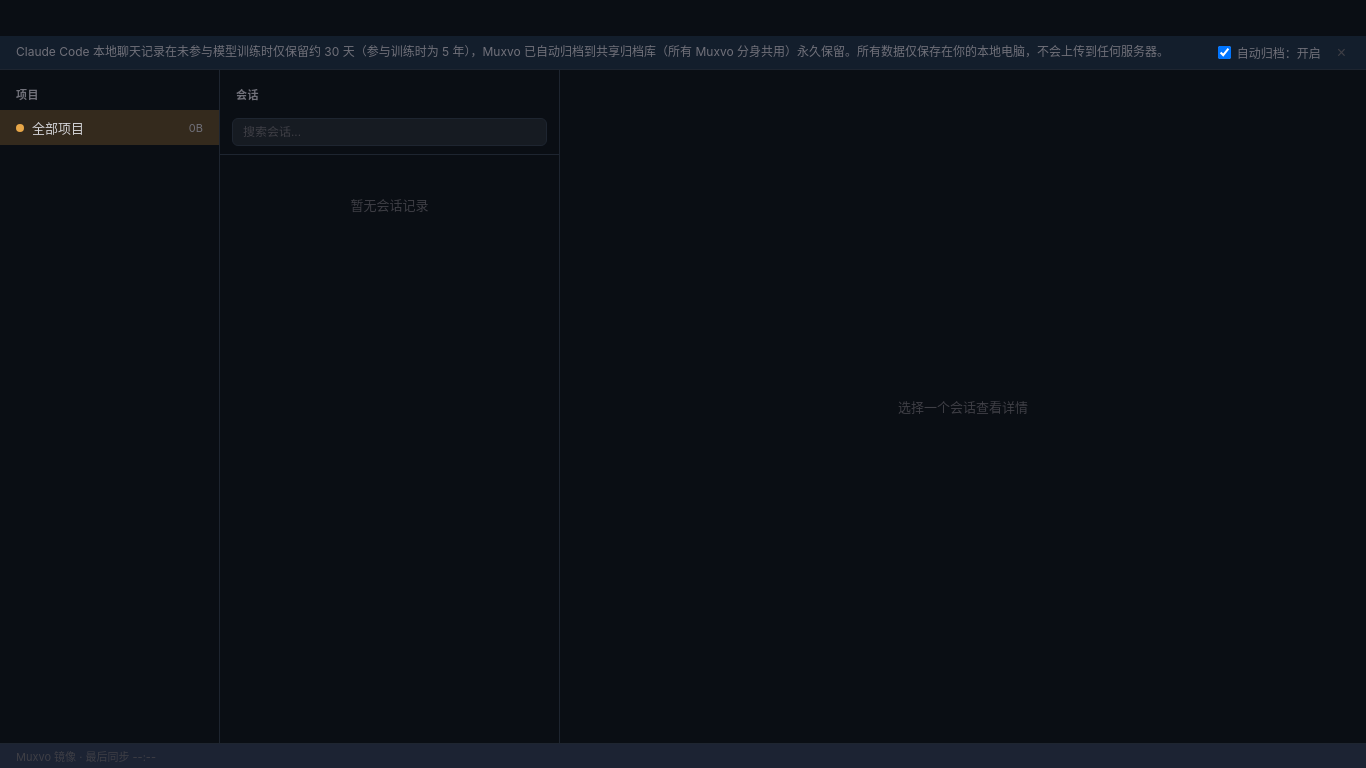
Test case: M-1 归档开关 UI（R7.3） › 切换：勾选状态点击 → 发 PrefsPatch{archiveEnabled:false} + 乐观翻牌「关闭」
Step 1. Click the checkbox labelled "自动归档：开启" → x=1224, y=52, box [1218,46,1231,59]
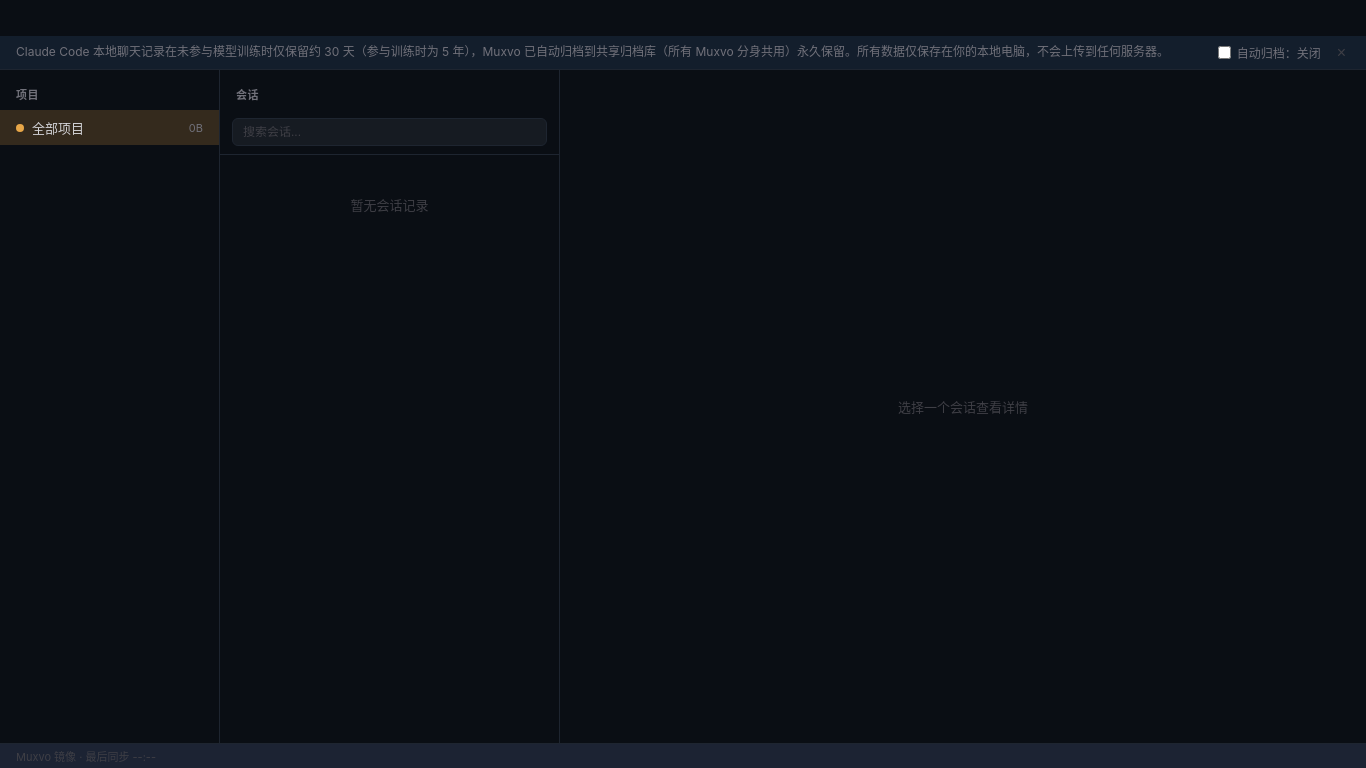
Expected: the checkbox labelled "自动归档：关闭" is not checked, [1218,46,1231,59]
Expected: the text "自动归档：关闭" is shown, [1237,44,1321,61]
